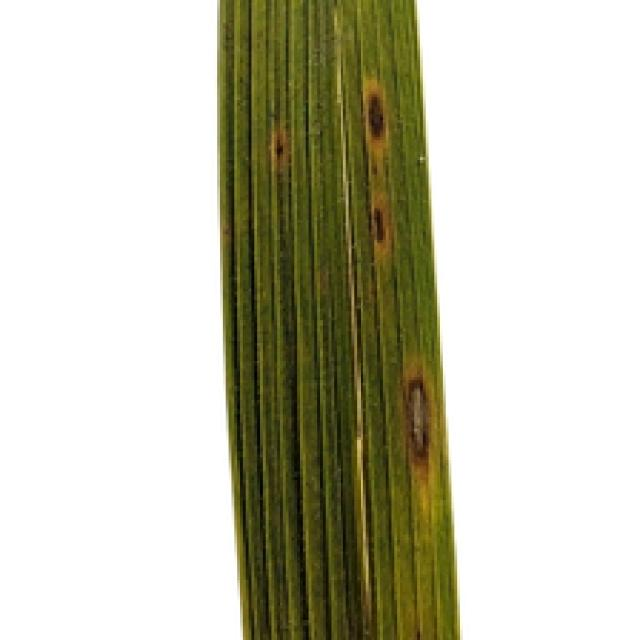Rice___Rice_Blast: (217, 0, 465, 637)
